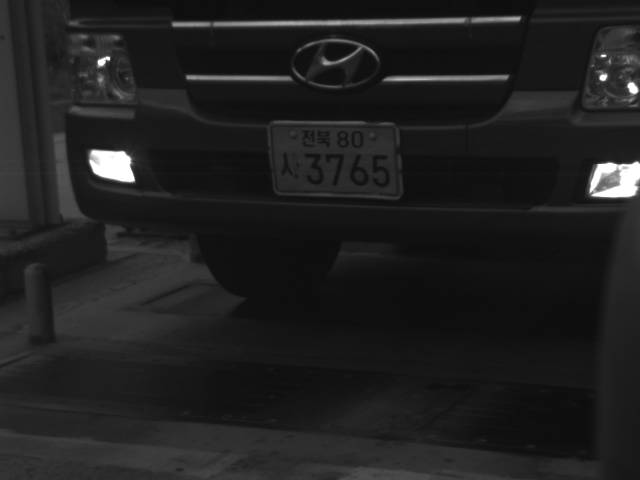car: (59, 1, 639, 298)
plate: (264, 118, 407, 201)
